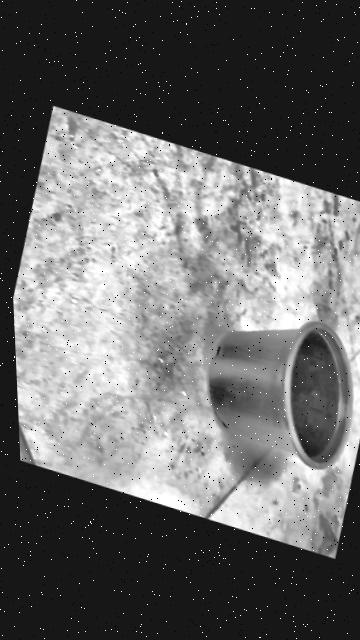pot: (192, 290, 360, 478)
